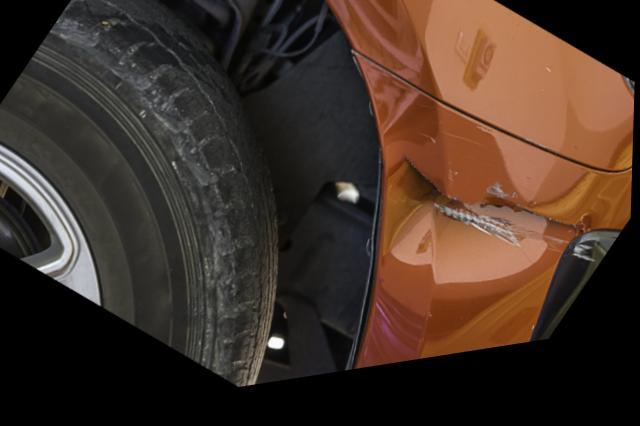crack: (407, 171, 580, 252)
dent: (382, 171, 549, 299)
